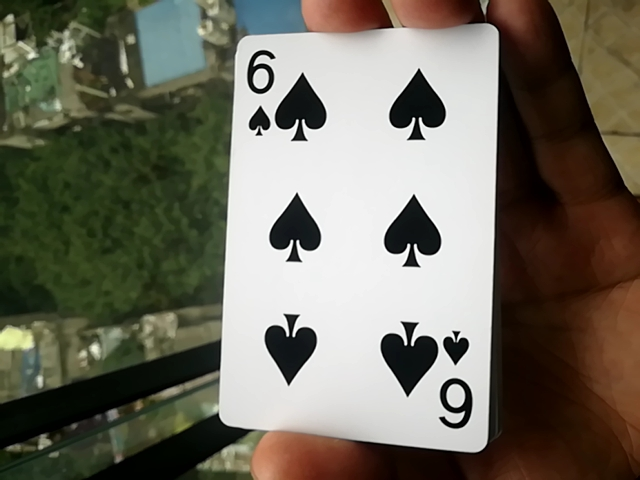ht 6: (214, 12, 488, 453)
